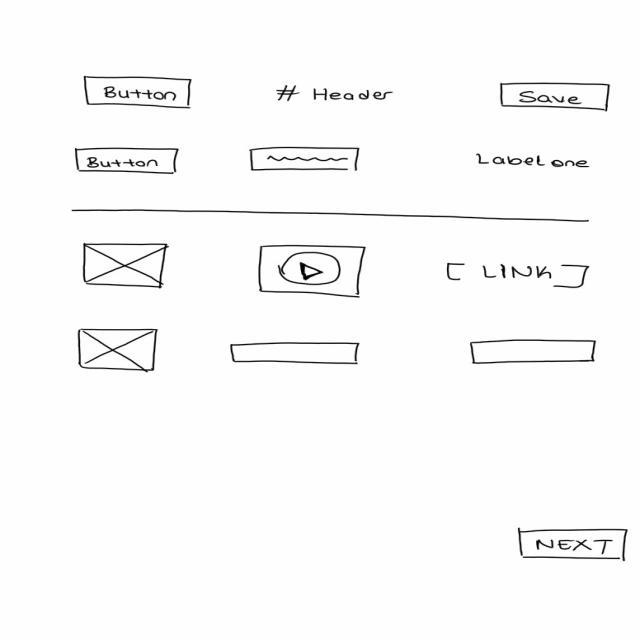button: (517, 526, 632, 562), (82, 74, 194, 110), (498, 81, 612, 111), (73, 147, 180, 175)
image: (81, 240, 169, 290), (76, 326, 158, 372)
input: (468, 338, 600, 366), (247, 144, 362, 172), (228, 341, 362, 365)
label: (474, 150, 594, 172), (275, 84, 395, 104)
link: (444, 259, 590, 291)
